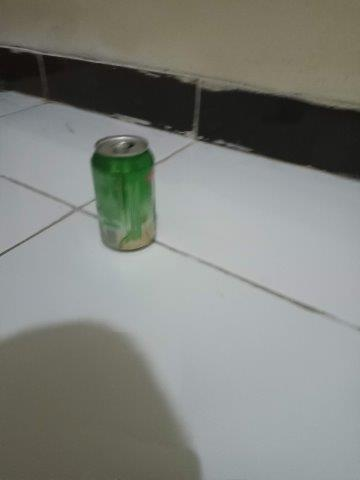kaleng: (91, 134, 157, 252)
